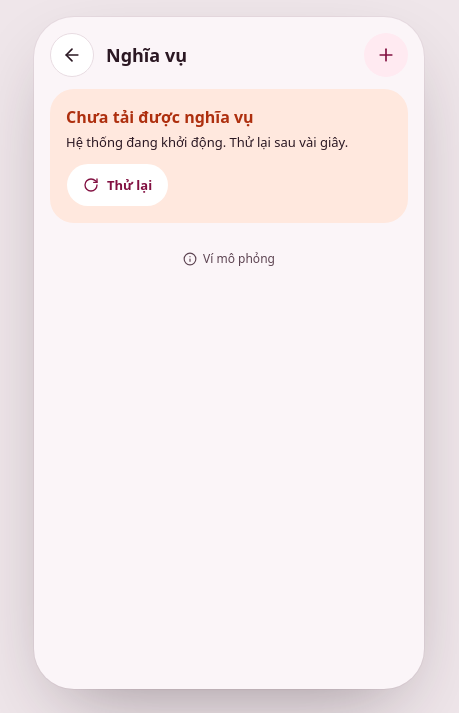
Test: Nghĩa vụ › rỗng: trạng thái rỗng có nút thêm; lỗi: Thử lại
Click the button "Thử lại" at (118, 185), box [66, 163, 169, 207]
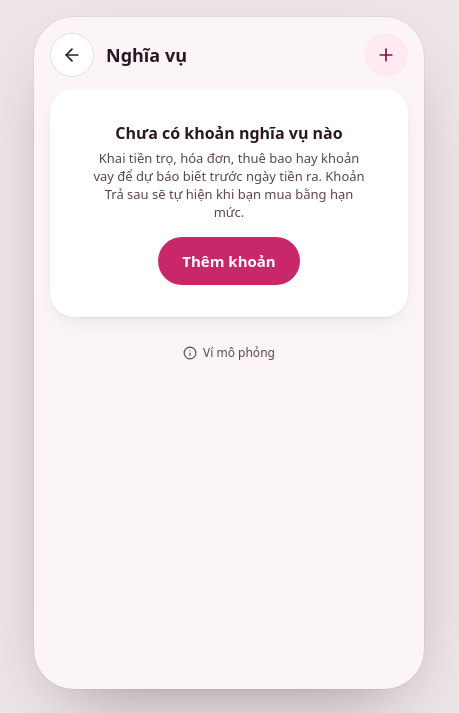
Expected: the link named "Thêm khoản" is shown, [364, 33, 408, 77]
Result: the heading "Chưa có khoản nghĩa vụ nào" is shown at [115, 122, 343, 144]
